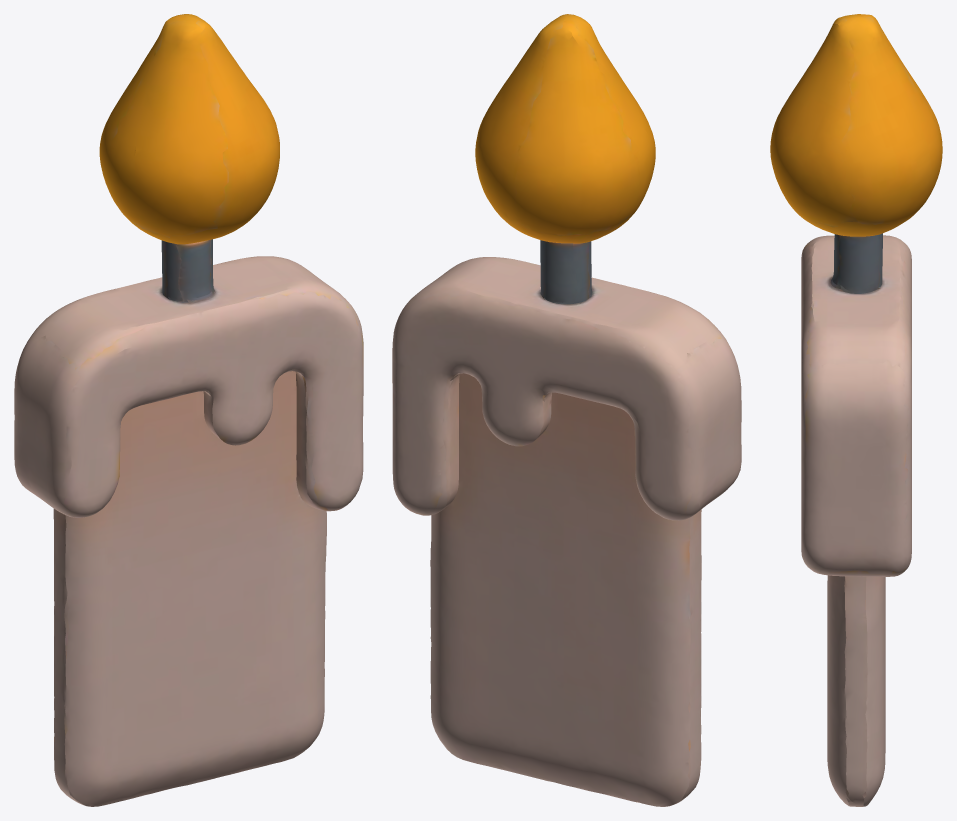
File: candle.glb
3 renders of one model, left to right at view 1: azimuth 30°, elevation 25°; view 2: azimuth 150°, elevation 25°; view 3: azimuth 270°, elevation 25°, orthographic. The views are drawn at different scales.
Visible parts, largest first — view 1: Mesh; view 2: Mesh; view 3: Mesh.
Boxes of the visible parts, x1,y1,x2,y2 form: Mesh: (14,14,363,806); Mesh: (392,14,741,806); Mesh: (770,14,942,806).
Bounding box in the file's own units: 0.4259 × 1 × 0.2109.
Materials: 1 (1 with a texture image).
